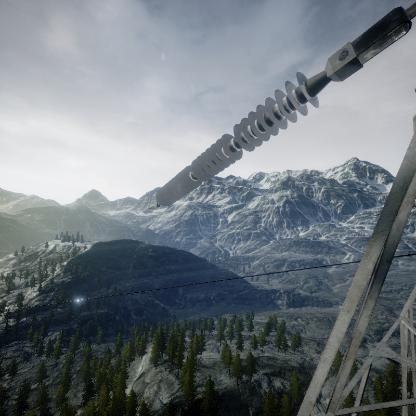insulator: (153, 68, 327, 209)
